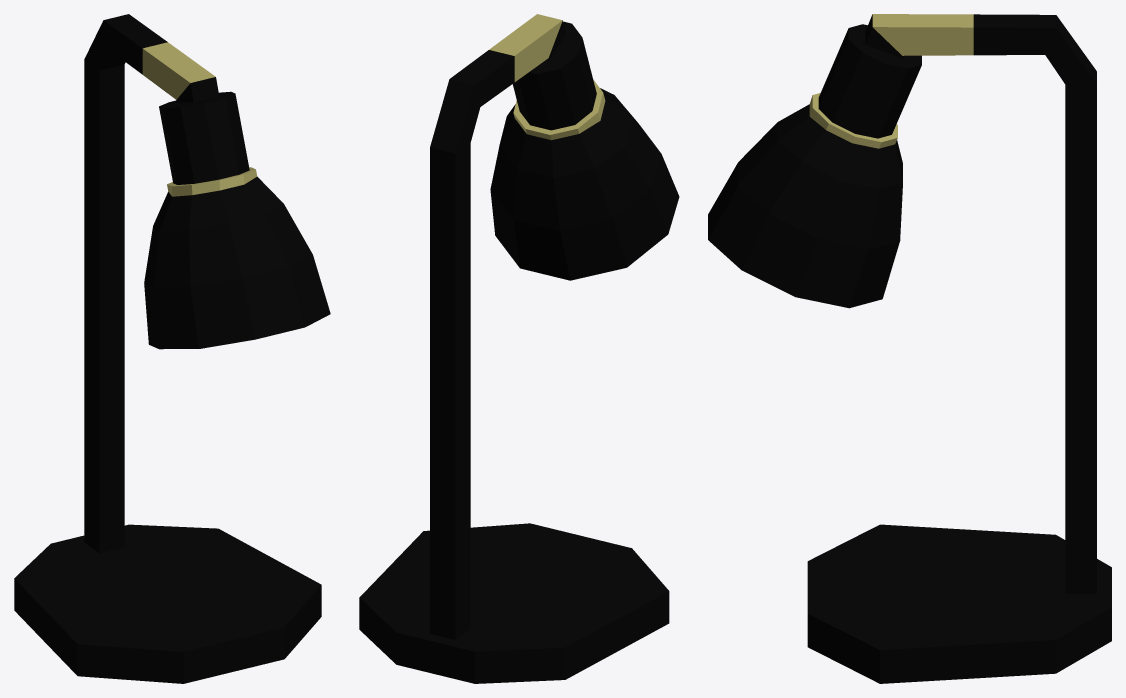
File: lamp.fbx
The picture shows the model from 3 angles, left to right: view 1: azimuth 30°, elevation 25°; view 2: azimuth 150°, elevation 25°; view 3: azimuth 270°, elevation 25°; orthographic projection. The views are drawn at different scales.
Visible parts, largest first — view 1: Lamp; view 2: Lamp; view 3: Lamp.
Boxes of the visible parts, x1,y1,x2,y2 form: Lamp: (14, 14, 330, 683); Lamp: (359, 14, 679, 683); Lamp: (708, 14, 1111, 683).
Bounding box in the file's own units: 193 × 431 × 262.
